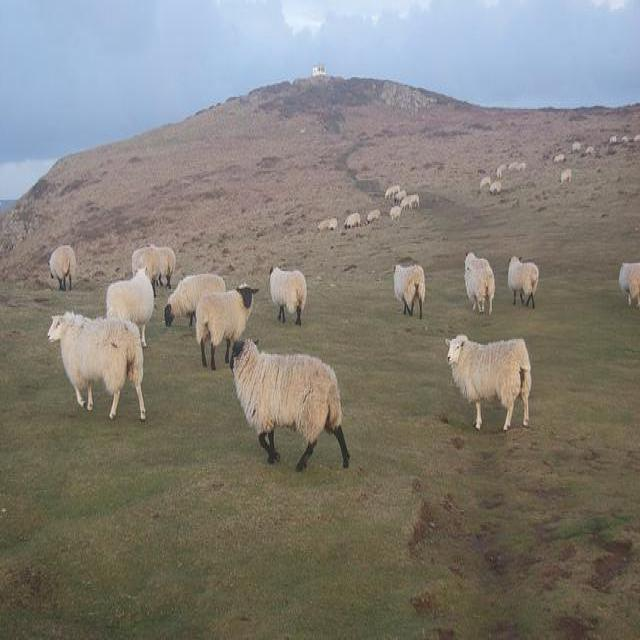Sheep: (229, 340, 350, 470), (47, 310, 146, 422), (444, 333, 532, 433), (195, 284, 261, 370), (107, 266, 156, 348), (164, 274, 229, 330), (269, 262, 308, 327), (132, 245, 176, 298)
